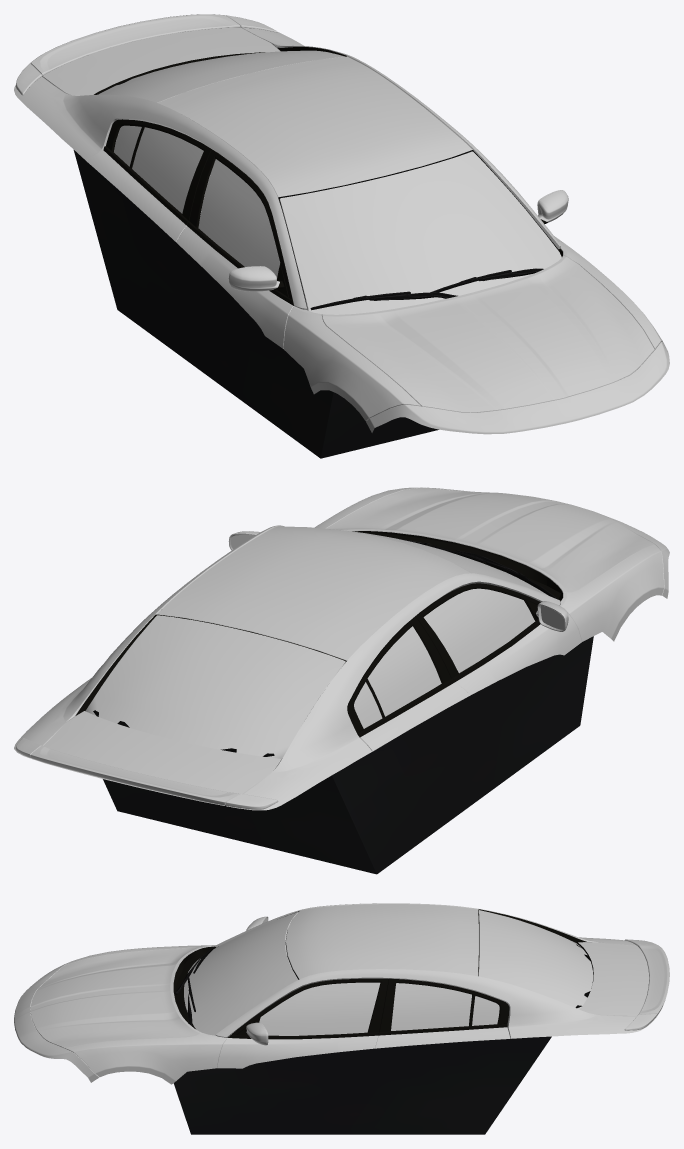
Rendered from RMCarDemoInterior.FBX.
The picture shows the model from 3 angles, top to bottom: view 1: azimuth 30°, elevation 25°; view 2: azimuth 150°, elevation 25°; view 3: azimuth 270°, elevation 25°; orthographic projection. The views are drawn at different scales.
Parts seen in each view (by area): view 1: RMCarDemo_Paint_LOD0, RMCarDemo_Windows_LOD0, RMCarDemo_Body_LOD0; view 2: RMCarDemo_Paint_LOD0, RMCarDemo_Body_LOD0, RMCarDemo_Windows_LOD0; view 3: RMCarDemo_Paint_LOD0, RMCarDemo_Body_LOD0, RMCarDemo_Windows_LOD0.
Boxes of the visible parts, bbox=[...] form: RMCarDemo_Paint_LOD0: bbox=[14, 14, 669, 434]; RMCarDemo_Windows_LOD0: bbox=[98, 50, 561, 314]; RMCarDemo_Body_LOD0: bbox=[73, 47, 562, 458]; RMCarDemo_Paint_LOD0: bbox=[14, 487, 669, 810]; RMCarDemo_Body_LOD0: bbox=[75, 531, 593, 874]; RMCarDemo_Windows_LOD0: bbox=[85, 528, 548, 758]; RMCarDemo_Paint_LOD0: bbox=[14, 903, 669, 1084]; RMCarDemo_Body_LOD0: bbox=[173, 909, 593, 1134]; RMCarDemo_Windows_LOD0: bbox=[184, 910, 593, 1035].
Bounding box in the file's own units: 2121 × 4946 × 1310.
